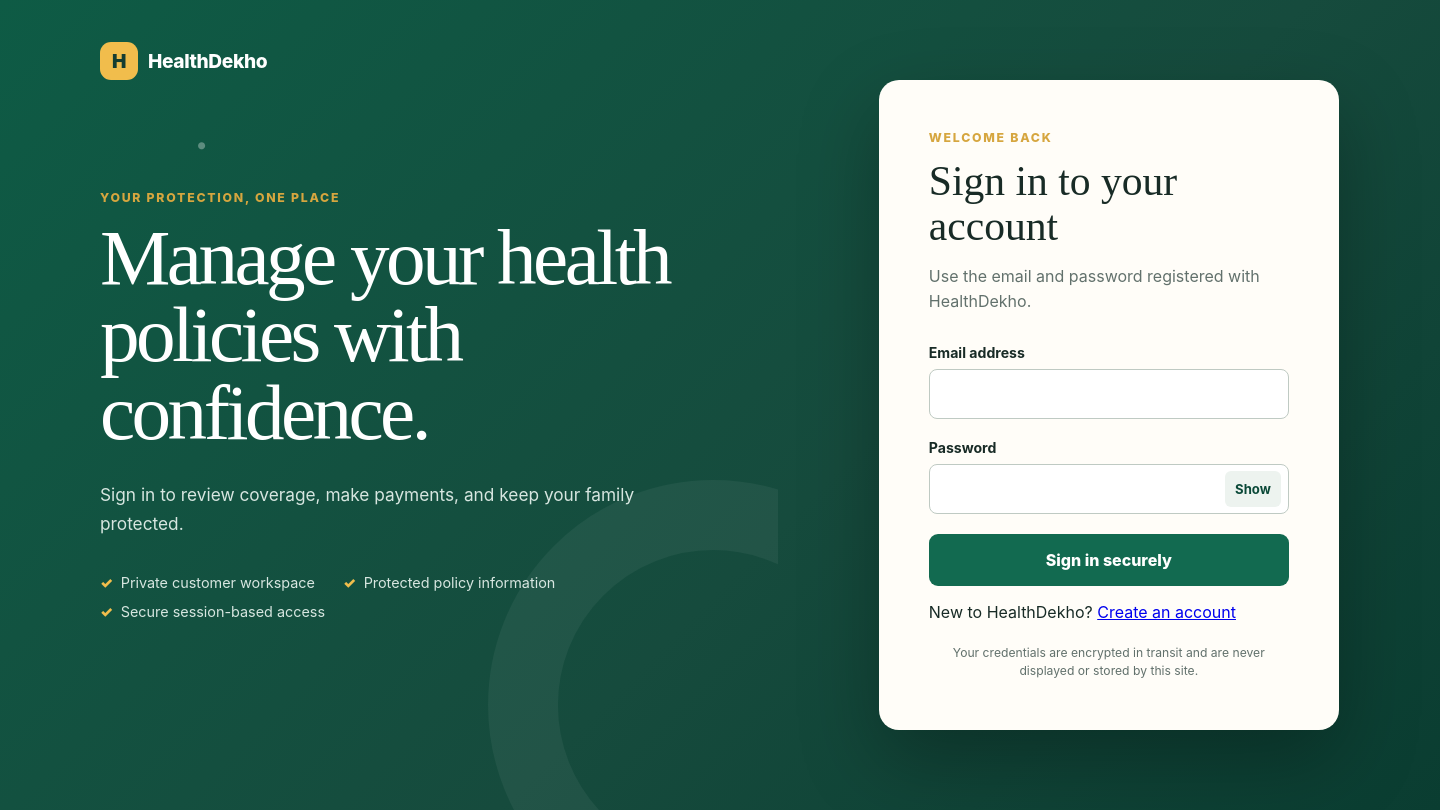
sign in › shows the stable generic error for rejected credentials without throwing
The width and height of the screenshot is (1440, 810).
In the field labelled "Email address": (1109, 394) [929,369,1289,419], type "customer@example.com"
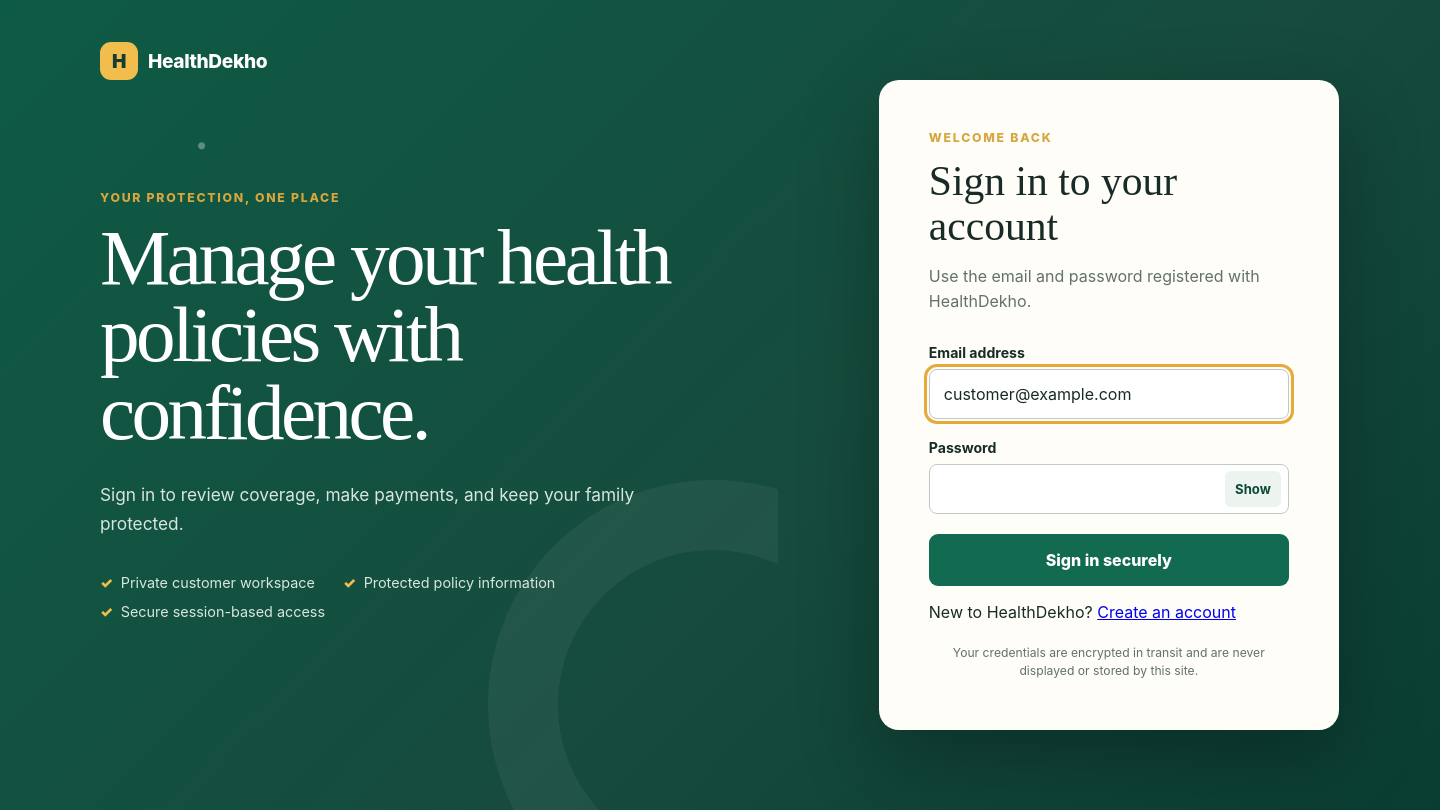
In the password field labelled "Password": (1109, 489) [929,464,1289,514], type "bad password"
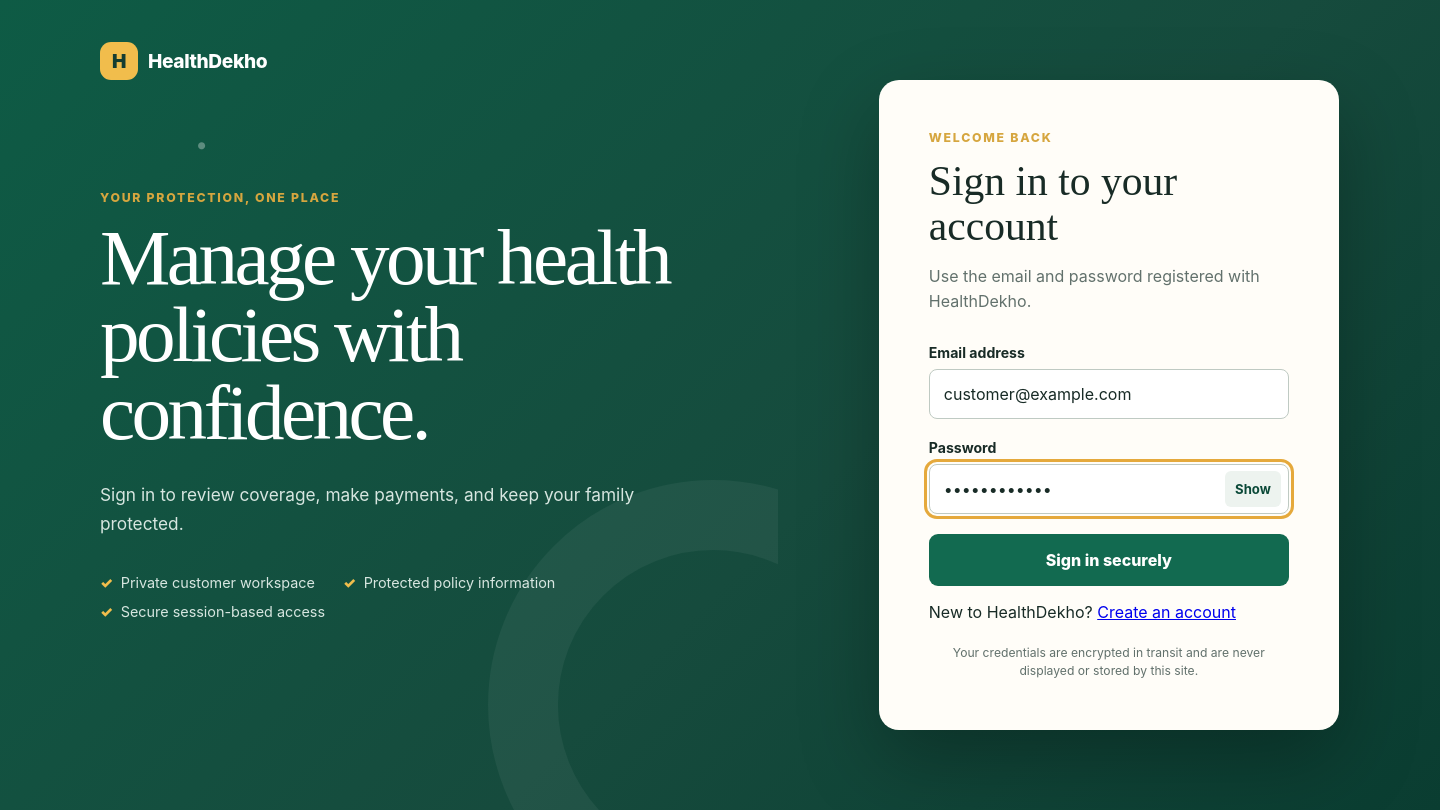
Click the button "Sign in securely": (1109, 560) [929,534,1289,586]
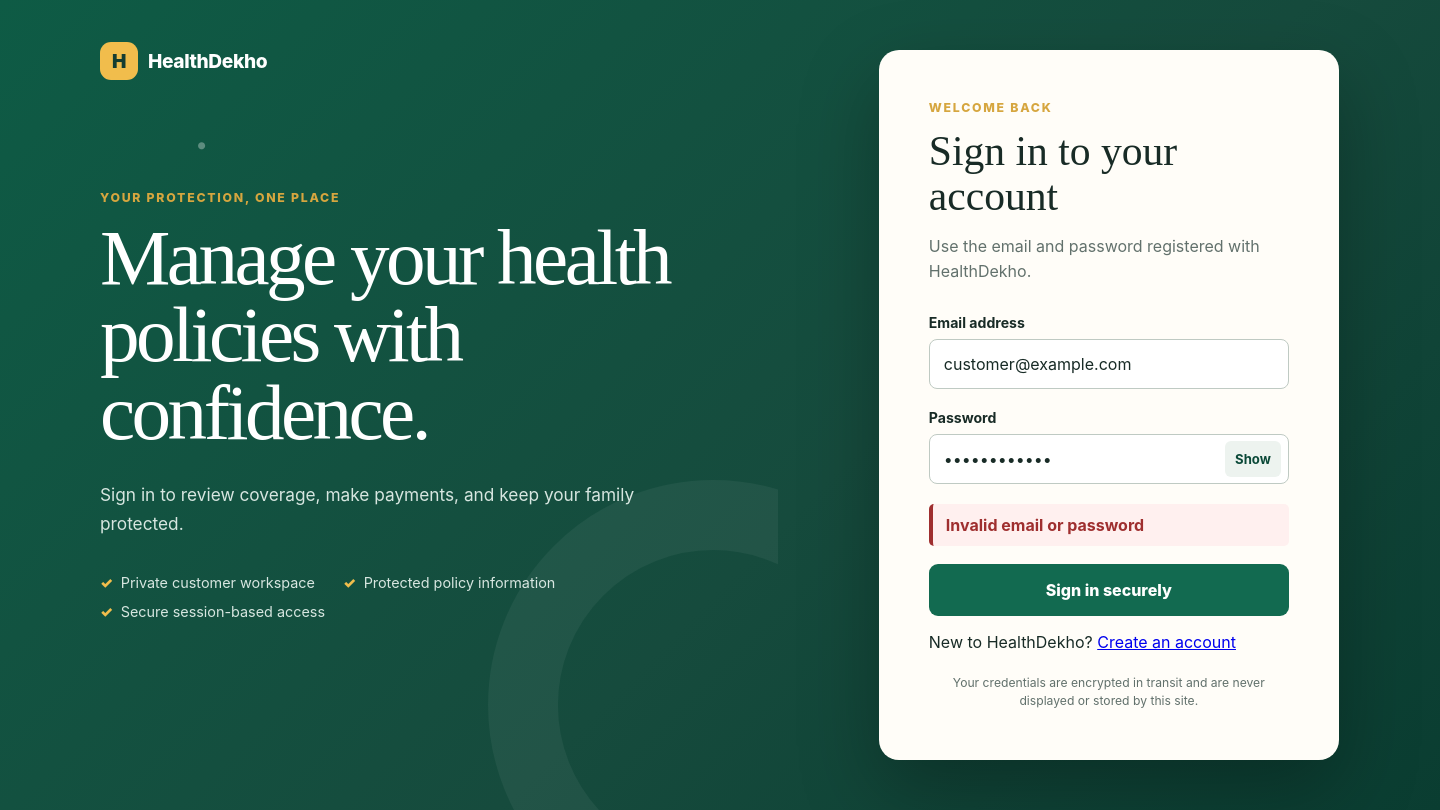
Expected: the button "Sign in securely" is enabled, [929,564,1289,616]
Now the message reads "Invalid email or password", box [946,515,1144,535]
